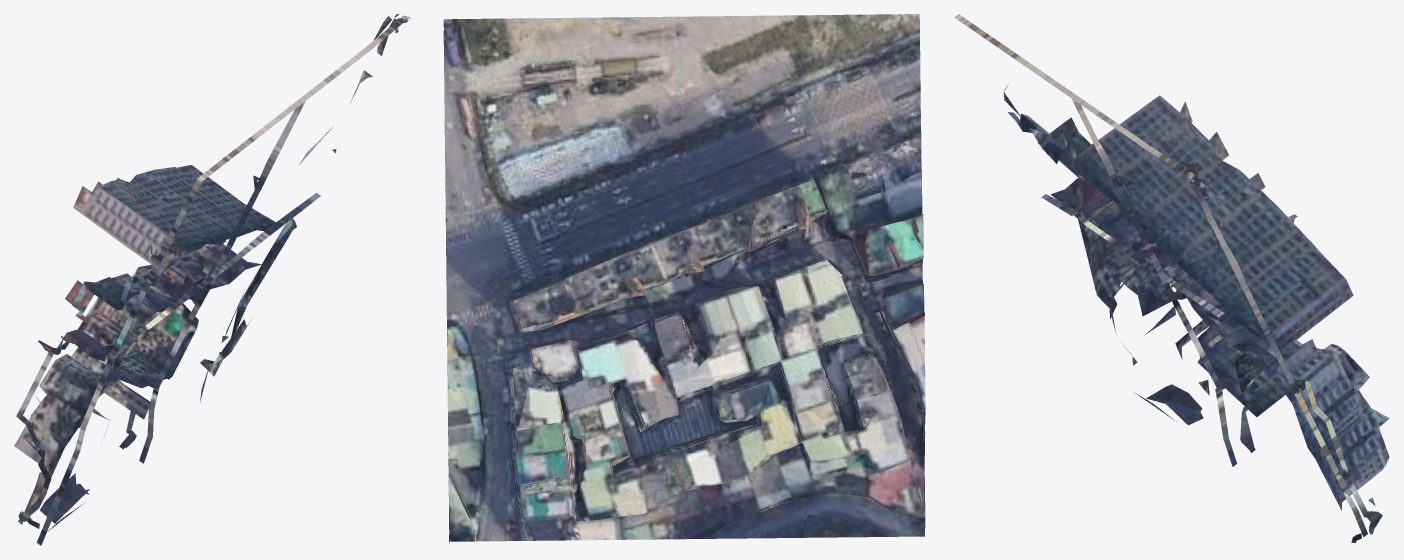
3 renders of one model, left to right at view 1: azimuth 30°, elevation 25°; view 2: azimuth 150°, elevation 25°; view 3: azimuth 270°, elevation 25°, orthographic. The views are drawn at different scales.
Size of the model in its own units: 154 by 143 by 135.
Materials: 2 (2 with a texture image).
